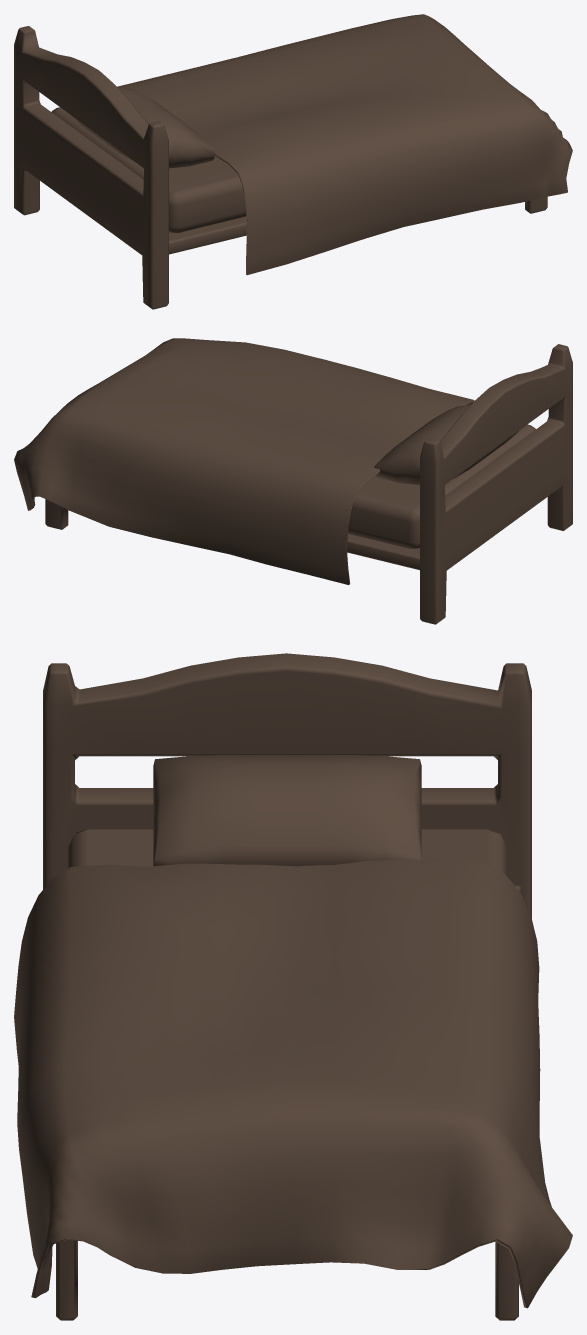
The model's file is MMM_bed.fbx.
3 renders of one model, top to bottom at view 1: azimuth 30°, elevation 25°; view 2: azimuth 150°, elevation 25°; view 3: azimuth 270°, elevation 25°, orthographic. The views are drawn at different scales.
Visible parts, largest first — view 1: blanket, bedframe, mattress, pillow; view 2: blanket, bedframe, mattress, pillow; view 3: blanket, bedframe, pillow, mattress.
Part boxes in pixels (<box>): blanket: <box>117,14,572,275</box>; bedframe: <box>14,26,547,309</box>; mattress: <box>51,107,246,232</box>; pillow: <box>68,87,215,168</box>; blanket: <box>14,338,474,584</box>; bedframe: <box>45,344,572,624</box>; mattress: <box>348,424,535,548</box>; pillow: <box>374,404,518,484</box>; blanket: <box>14,855,572,1308</box>; bedframe: <box>43,653,531,1320</box>; pillow: <box>153,755,421,866</box>; mattress: <box>68,829,506,875</box>.
Size of the model in its own units: 2167 by 891 by 1377.
